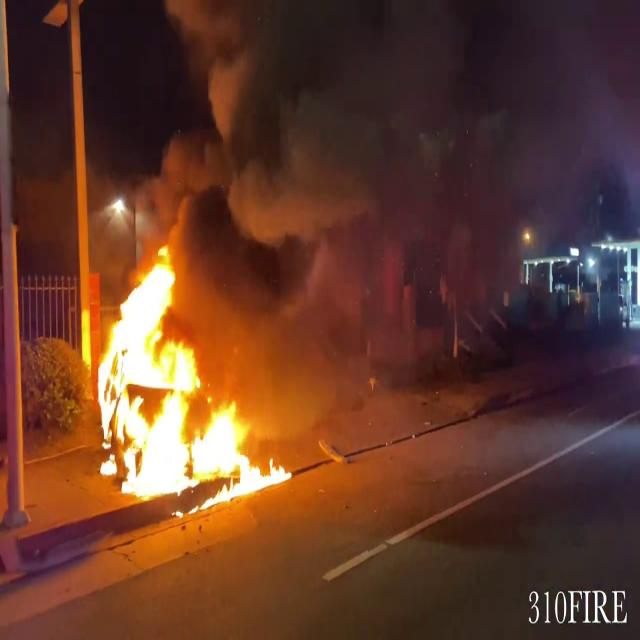Fire: (89, 243, 293, 507)
Smoke: (141, 0, 587, 374)
